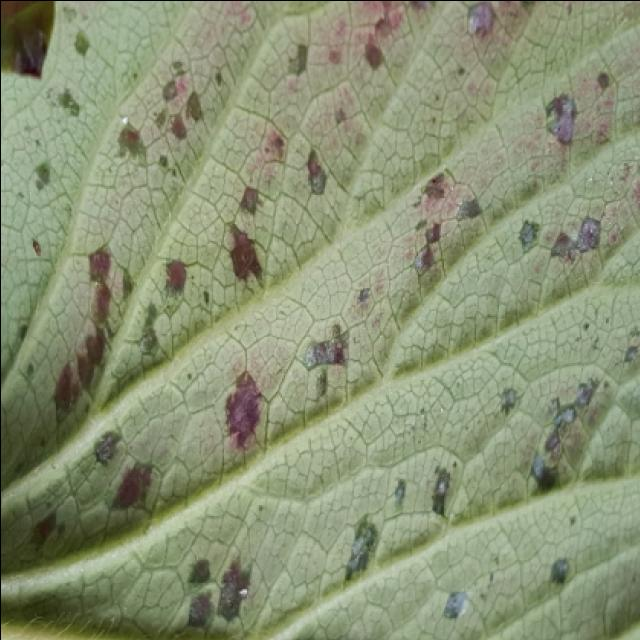Angular Leafspot: (2, 2, 640, 640)
